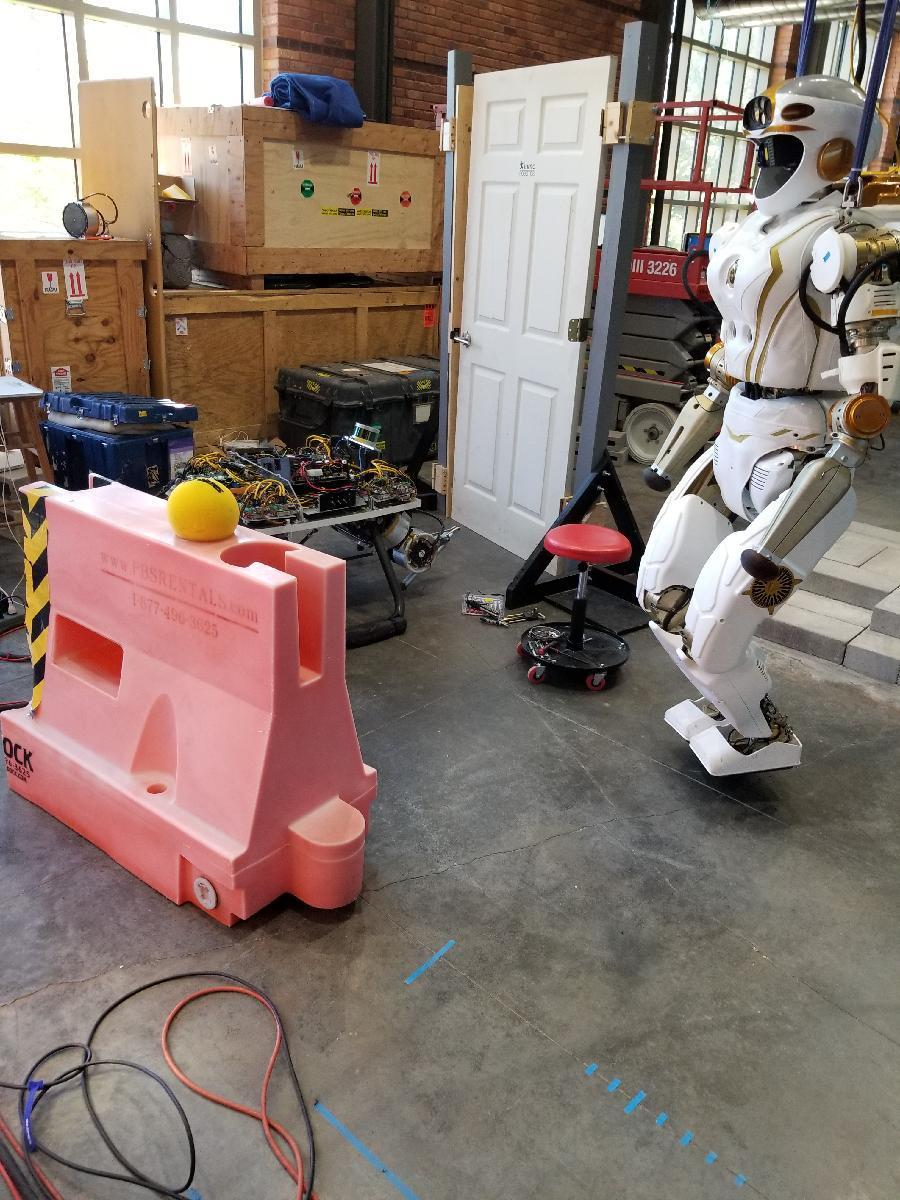door: (466, 73, 610, 540)
